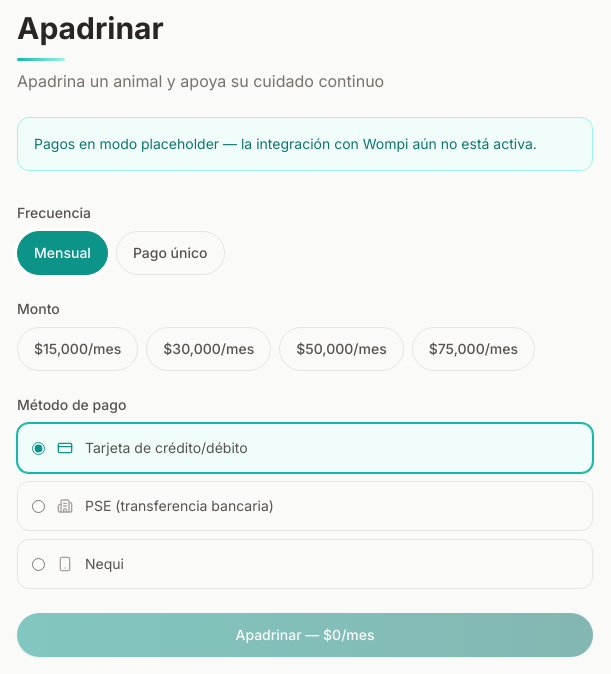
Scenario: CheckoutApadrinamientoPage › removes /mes suffix when one_time frequency selected
Check: the button "$15,000/mes" is shown, box [17, 327, 138, 371]
Click the button "Pago único": (170, 253) [116, 231, 225, 275]
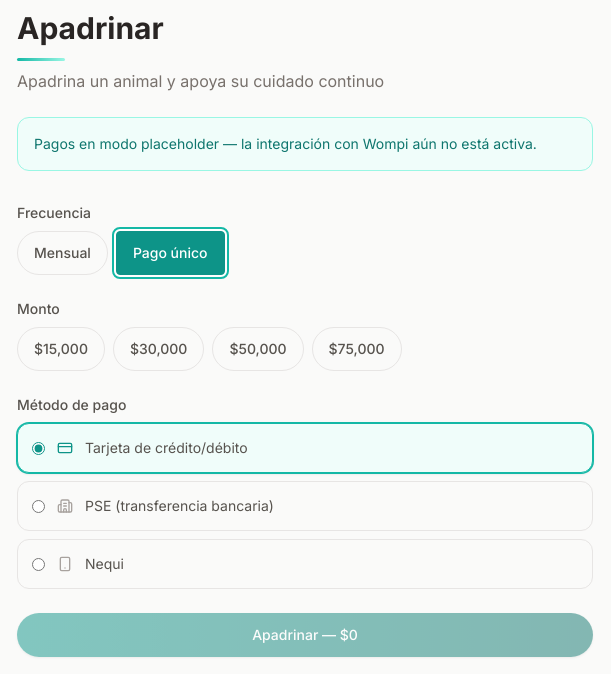
Check: the button "$15,000" is shown, box [17, 327, 105, 371]
Check: the button "$15,000/mes" is gone
